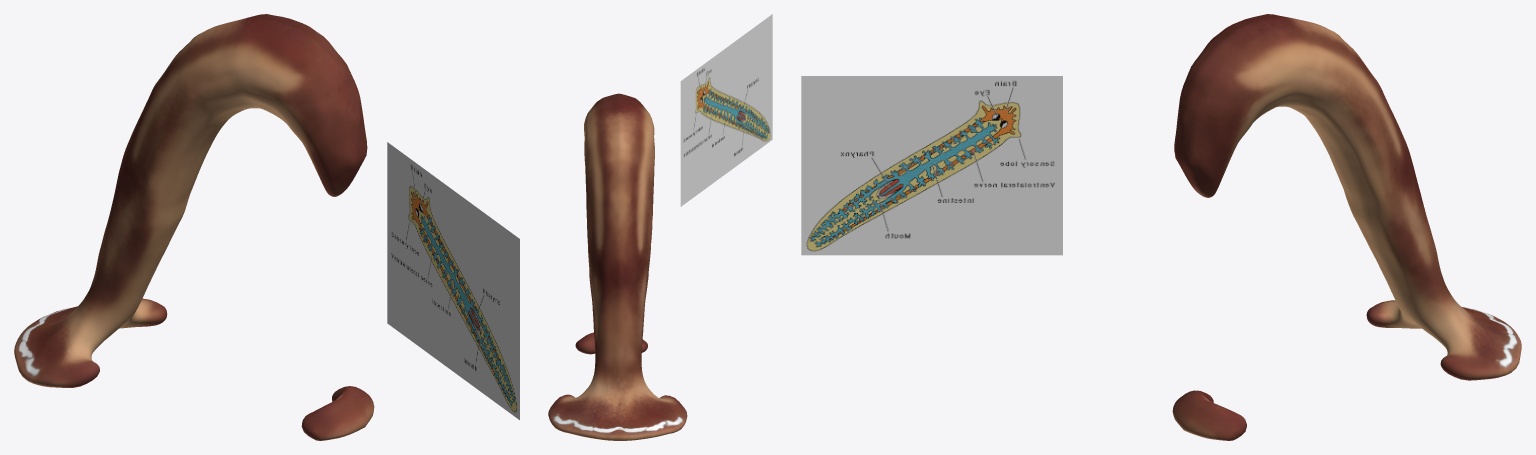
File: flatworm.glb
3 views of the same model, side by side, from view 1: azimuth 30°, elevation 25°; view 2: azimuth 150°, elevation 25°; view 3: azimuth 270°, elevation 25° (orthographic). The views are drawn at different scales.
Parts seen in each view (by area): view 1: Object_2, flatworm_structure; view 2: Object_2, flatworm_structure; view 3: flatworm_structure, Object_2.
Boxes of the visible parts, x1,y1,x2,y2 form: Object_2: (14, 14, 374, 440); flatworm_structure: (387, 142, 519, 419); Object_2: (548, 93, 687, 440); flatworm_structure: (680, 14, 772, 206); flatworm_structure: (801, 76, 1062, 255); Object_2: (1172, 14, 1521, 440).
Size of the model in its own units: 1.43 by 2.17 by 3.64.
Materials: 2 (2 with a texture image).
